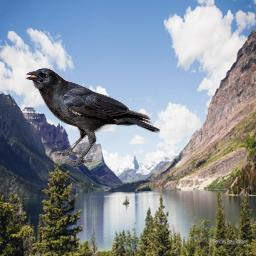Crow: (25, 67, 160, 166)
